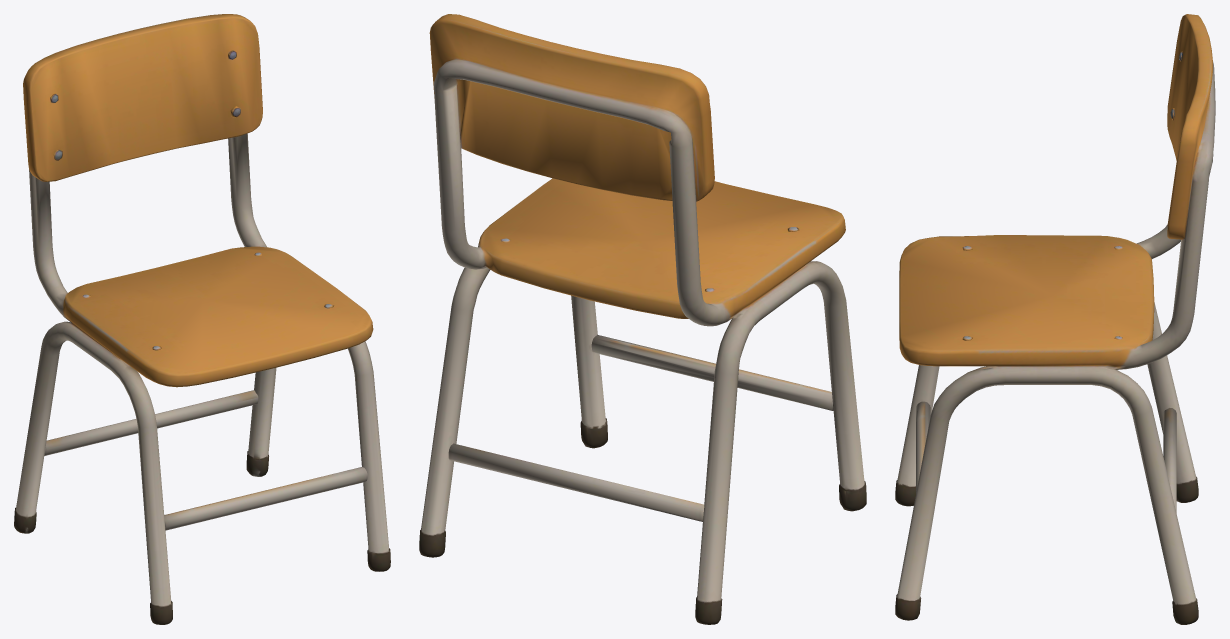
File: a_test_chair_03a8d5cc_v2.glb
3 views of the same model, side by side, from view 1: azimuth 30°, elevation 25°; view 2: azimuth 150°, elevation 25°; view 3: azimuth 270°, elevation 25° (orthographic). The views are drawn at different scales.
Parts seen in each view (by area): view 1: material; view 2: material; view 3: material.
Part boxes in pixels (x1,y1,x2,y2): material: (14,14,390,624); material: (419,14,866,624); material: (895,14,1215,624).
Size of the model in its own units: 1.08 by 1.9 by 1.11.
Materials: 1 (1 with a texture image).
